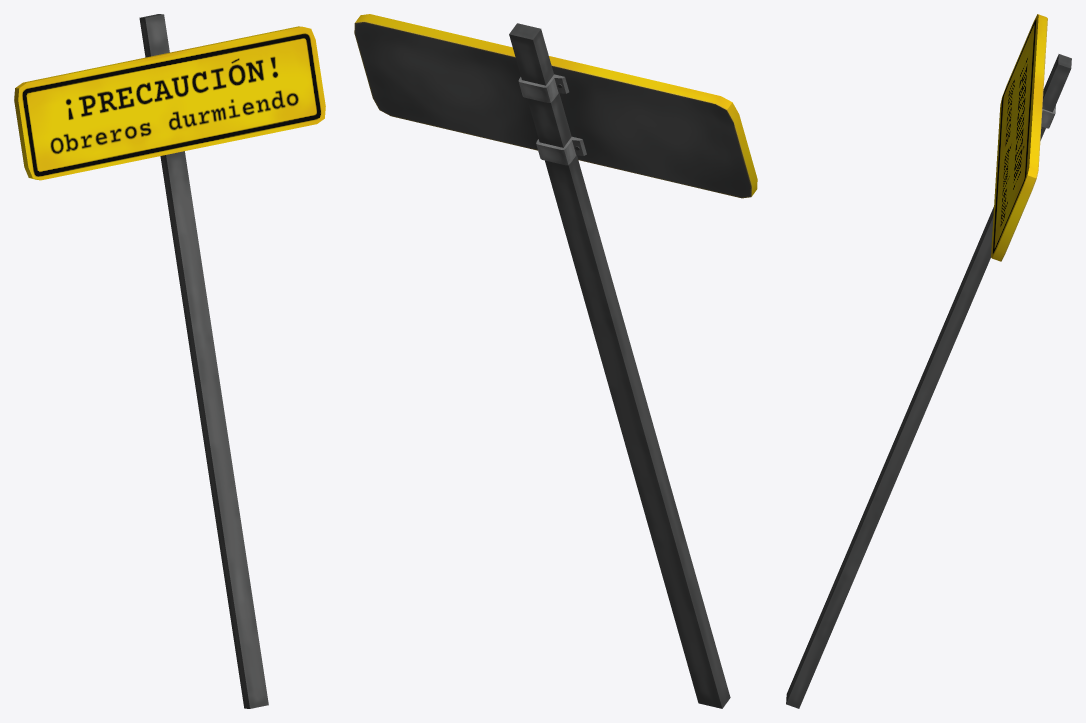
Rendered from Version3cartel.fbx.
3 views of the same model, side by side, from view 1: azimuth 30°, elevation 25°; view 2: azimuth 150°, elevation 25°; view 3: azimuth 270°, elevation 25° (orthographic). The views are drawn at different scales.
Visible parts, largest first — view 1: rectangulo corto; view 2: rectangulo corto; view 3: rectangulo corto.
Part boxes in pixels (x1,y1,x2,y2): rectangulo corto: [14, 14, 325, 708]; rectangulo corto: [354, 14, 757, 708]; rectangulo corto: [786, 14, 1071, 708].
Bounding box in the file's own units: 2.77 × 5.38 × 2.13.
